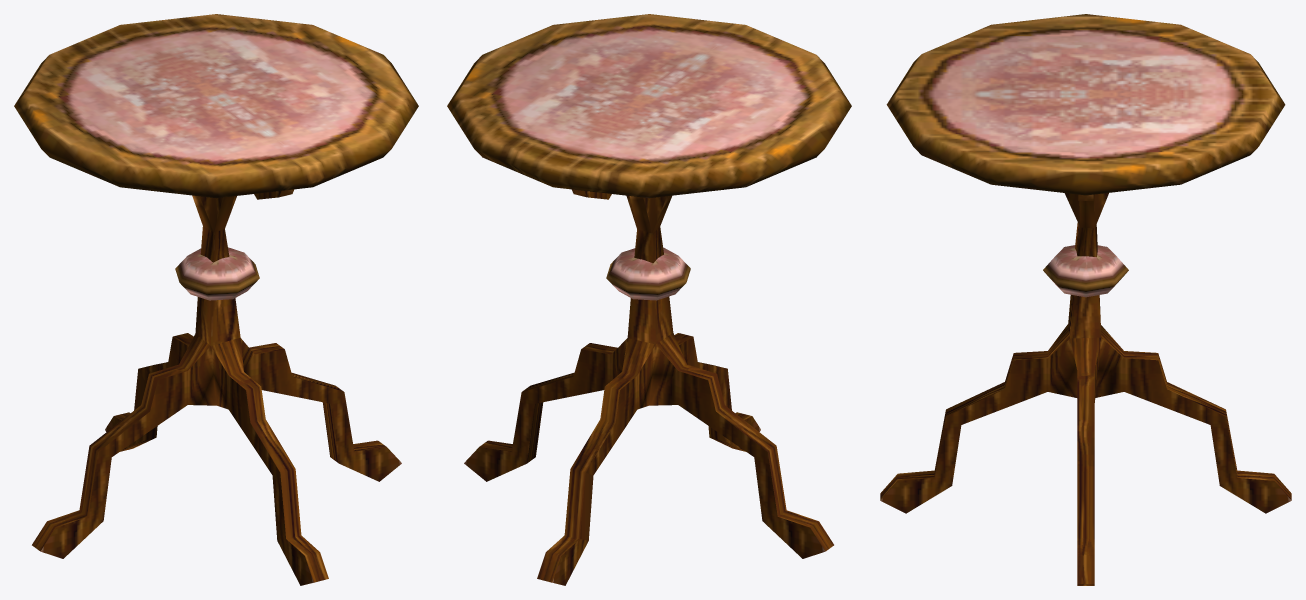
File: INST_BE_SMALLTABLE.fbx
The picture shows the model from 3 angles, left to right: view 1: azimuth 30°, elevation 25°; view 2: azimuth 150°, elevation 25°; view 3: azimuth 270°, elevation 25°; orthographic projection.
Visible parts, largest first — view 1: INST_BE_SMALLTABLE; view 2: INST_BE_SMALLTABLE; view 3: INST_BE_SMALLTABLE.
Part boxes in pixels (x1,y1,x2,y2): INST_BE_SMALLTABLE: [14, 14, 418, 585]; INST_BE_SMALLTABLE: [447, 14, 851, 585]; INST_BE_SMALLTABLE: [880, 14, 1291, 585].
Size of the model in its own units: 3582 by 3992 by 3582.
1 material, 1 textured.
